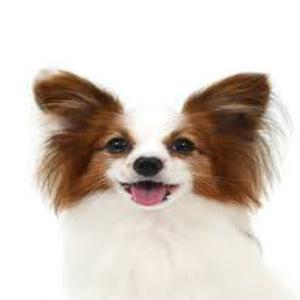yell: (32, 68, 274, 300)
